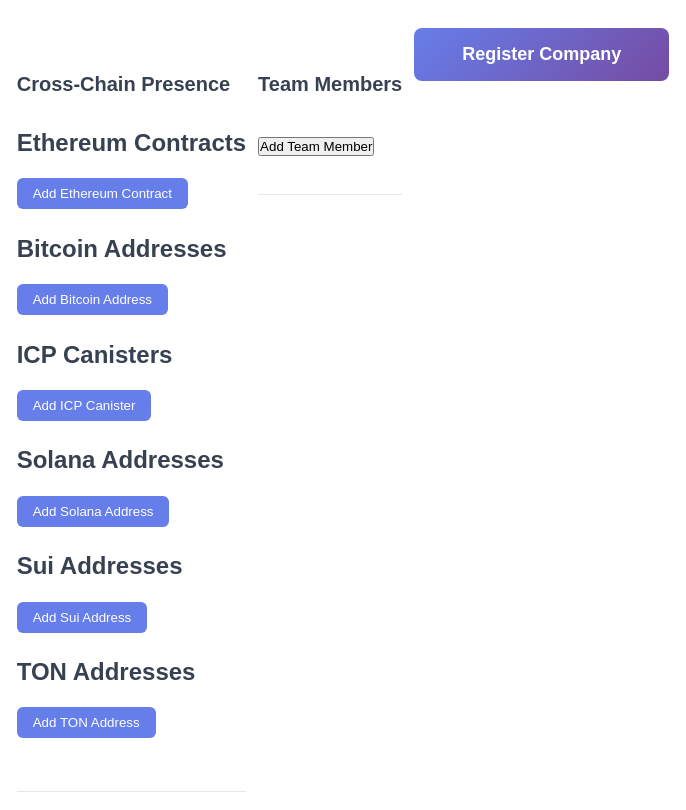
Scenario: CompanyRegistrationForm › Cross-Chain Address Management › should add ICP canister via prompt
(page scrolled)
Click the button "Add ICP Canister".
click(84, 406)  # box 17,390 -> 151,421
(page scrolled)
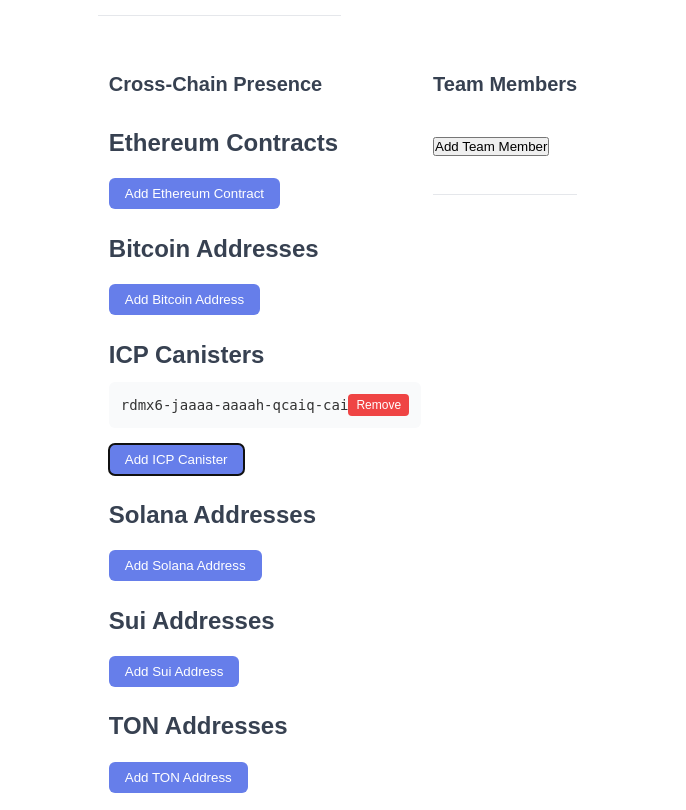
expect the text "rdmx6-jaaaa-aaaah-qcaiq-cai" is shown: met, box 121,394 -> 348,416
